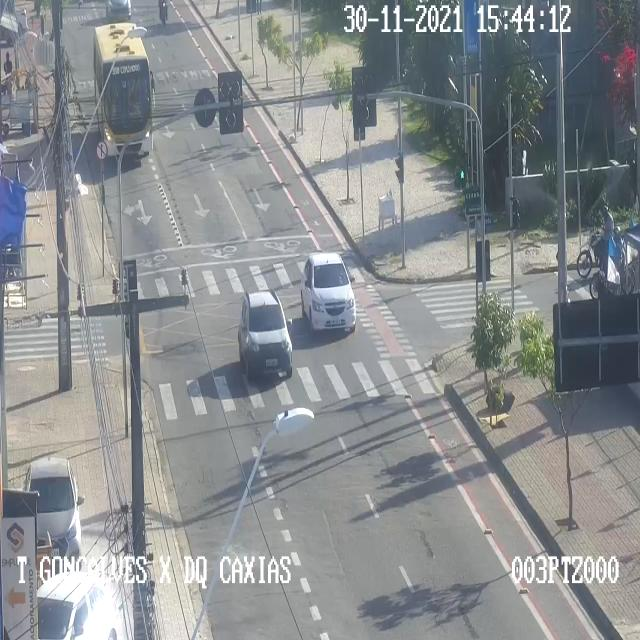Bus: (92, 19, 157, 161)
Car: (24, 456, 85, 560), (36, 571, 122, 639), (238, 292, 294, 386), (300, 252, 356, 337), (108, 0, 135, 21)
Motorcycle: (576, 201, 620, 277), (588, 228, 635, 297), (157, 0, 175, 29)
